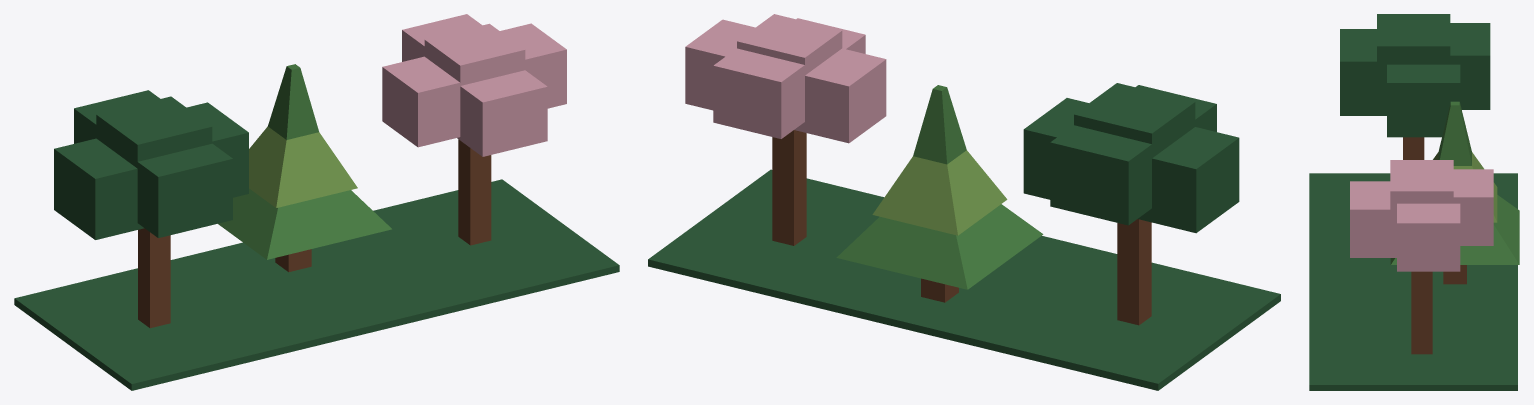
File: Blockland_BlockGrove_Simple.glb
The picture shows the model from 3 angles, left to right: view 1: azimuth 30°, elevation 25°; view 2: azimuth 150°, elevation 25°; view 3: azimuth 270°, elevation 25°; orthographic projection. The views are drawn at different scales.
Parts seen in each view (by area): view 1: Blockland_BlockGrove_Simple; view 2: Blockland_BlockGrove_Simple; view 3: Blockland_BlockGrove_Simple.
Boxes of the visible parts, box(x1,y1,x2,y2) form: Blockland_BlockGrove_Simple: box(14, 14, 619, 390); Blockland_BlockGrove_Simple: box(648, 14, 1280, 390); Blockland_BlockGrove_Simple: box(1309, 14, 1519, 390).
Bounding box in the file's own units: 12 × 4.88 × 5.05.
